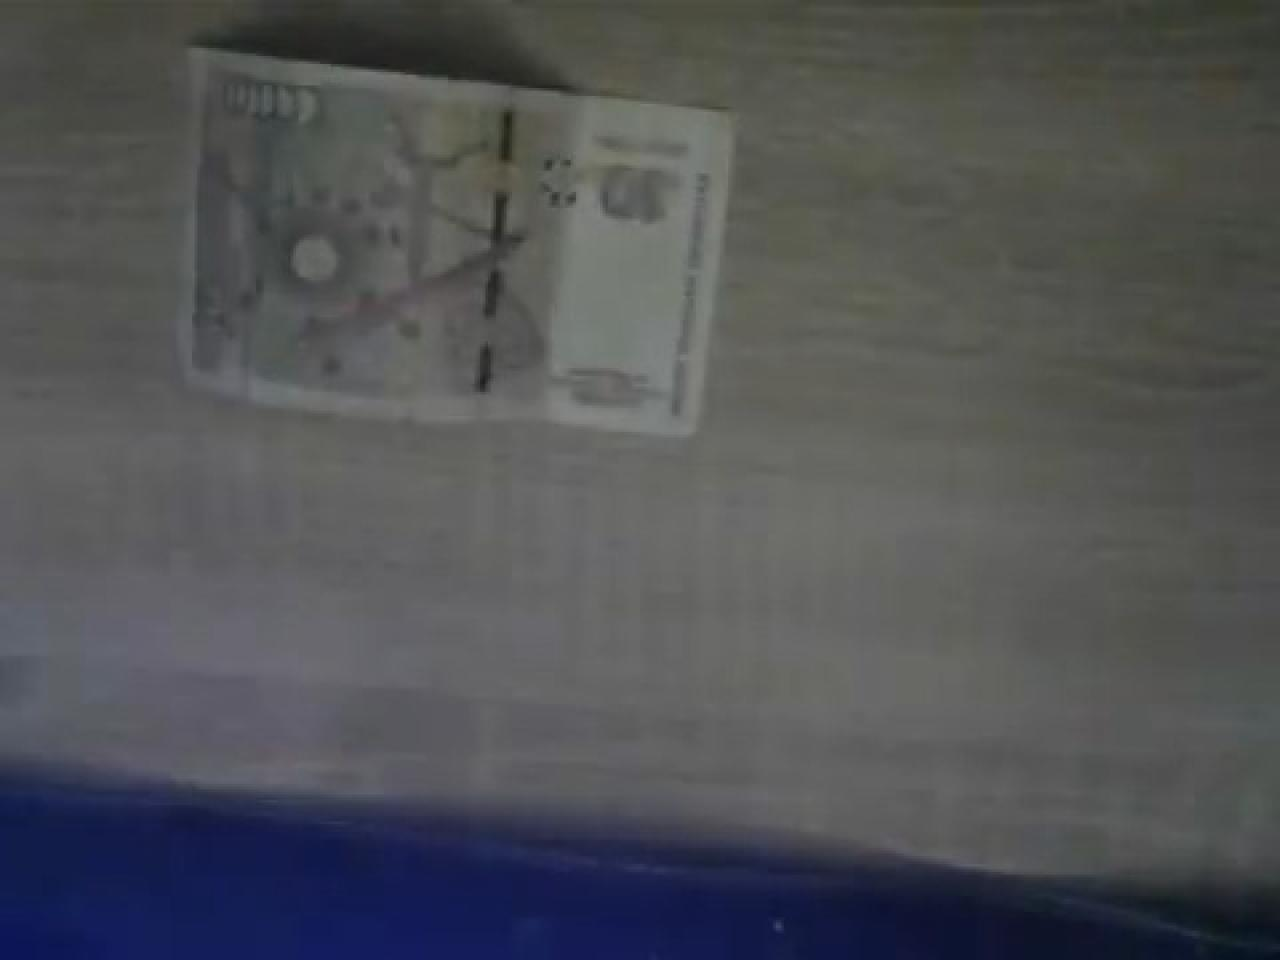10leva: (173, 40, 739, 438)
